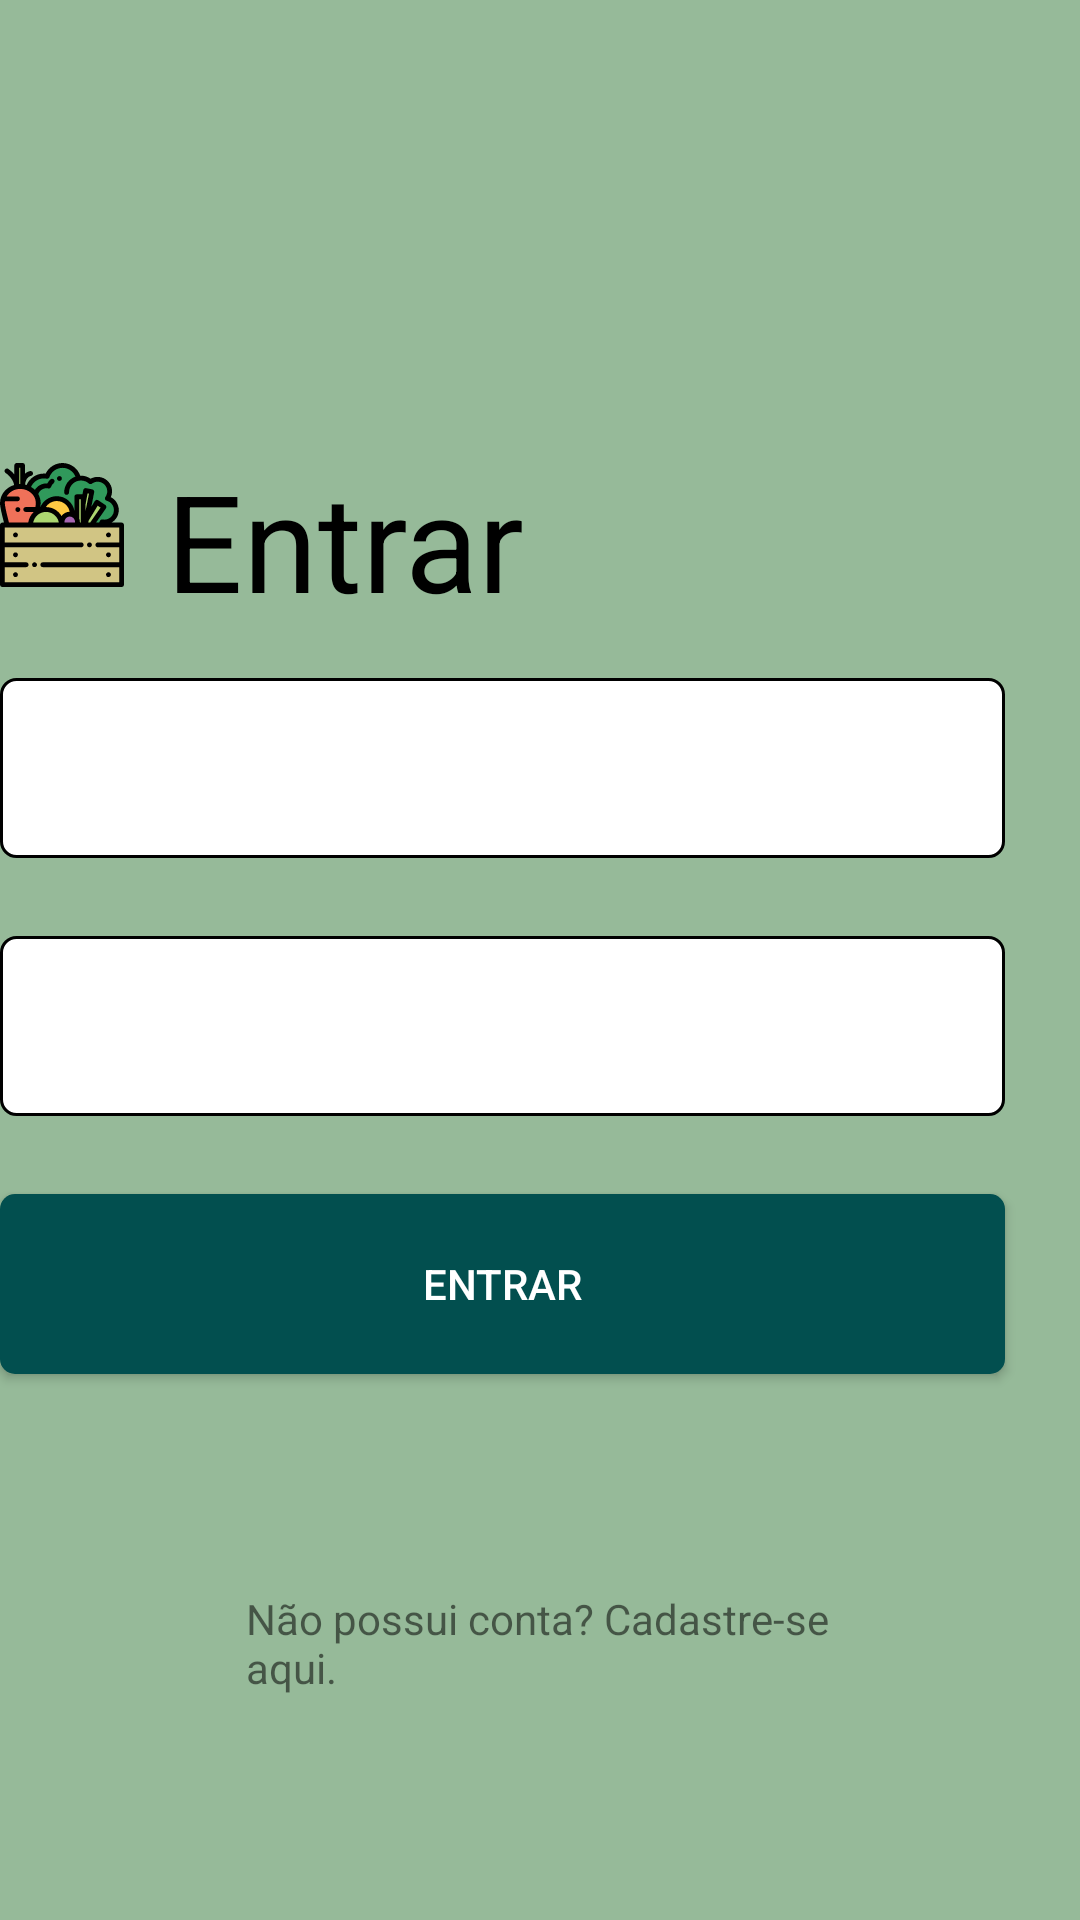

Where icons sit on this 1080x1920 app screen, as (x1, y1, x2, y2):
vegetables: (0, 463, 124, 587)
